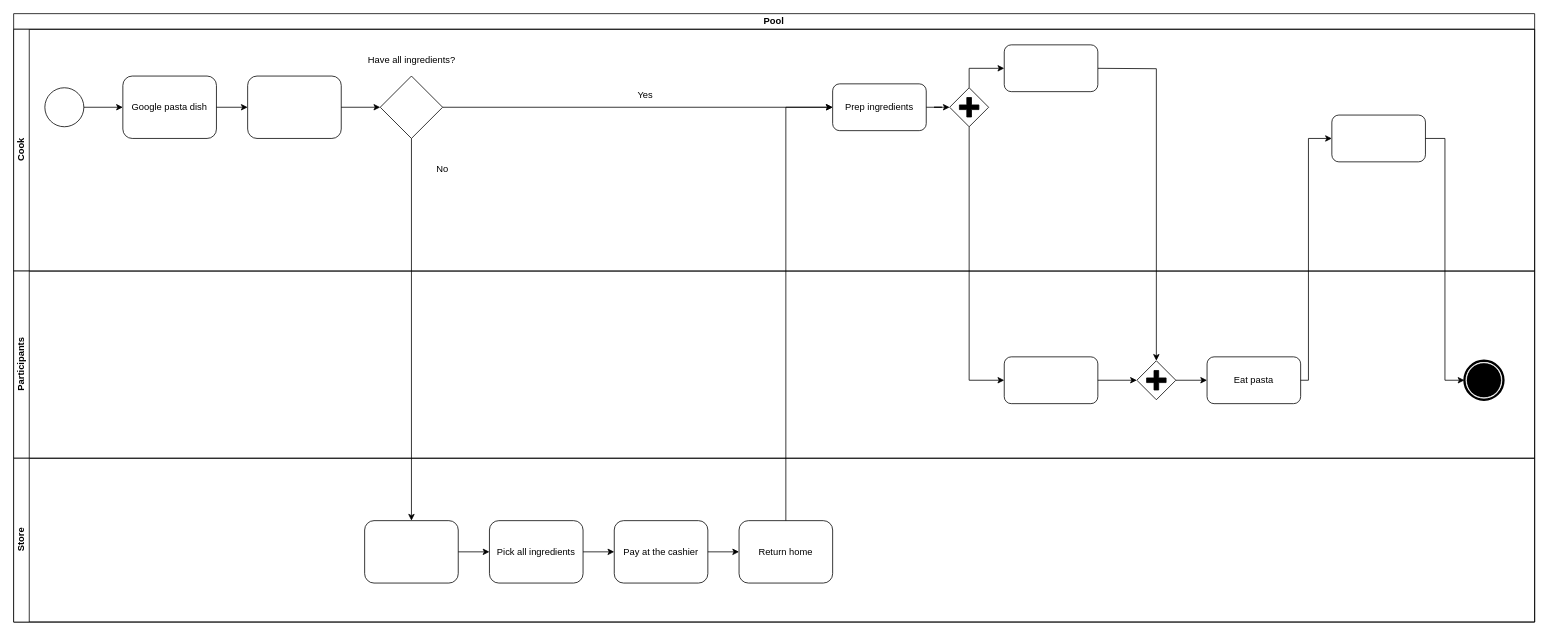
Some shapes in this 1548 by 636 pixel diagram are drawn without their labels. The centre of each missing label's shape, as x and y in pixels:
Clean dishes: the point at 1378,138
Cook meal: the point at 1050,68
Go to store: the point at 411,551
Note ingredients: the point at 294,106
Set dining table: the point at 1050,380
